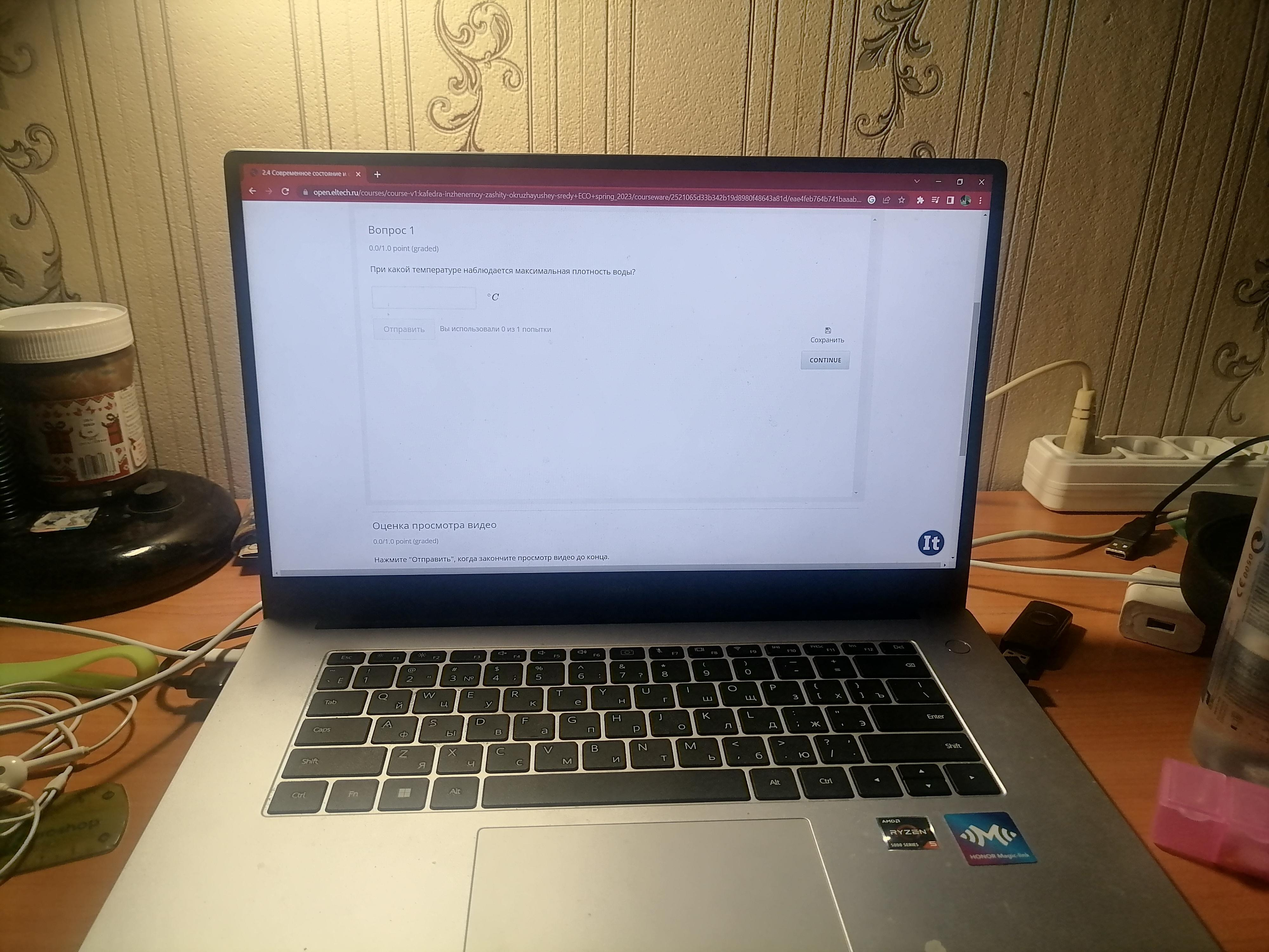monitor: (219, 144, 1009, 620)
